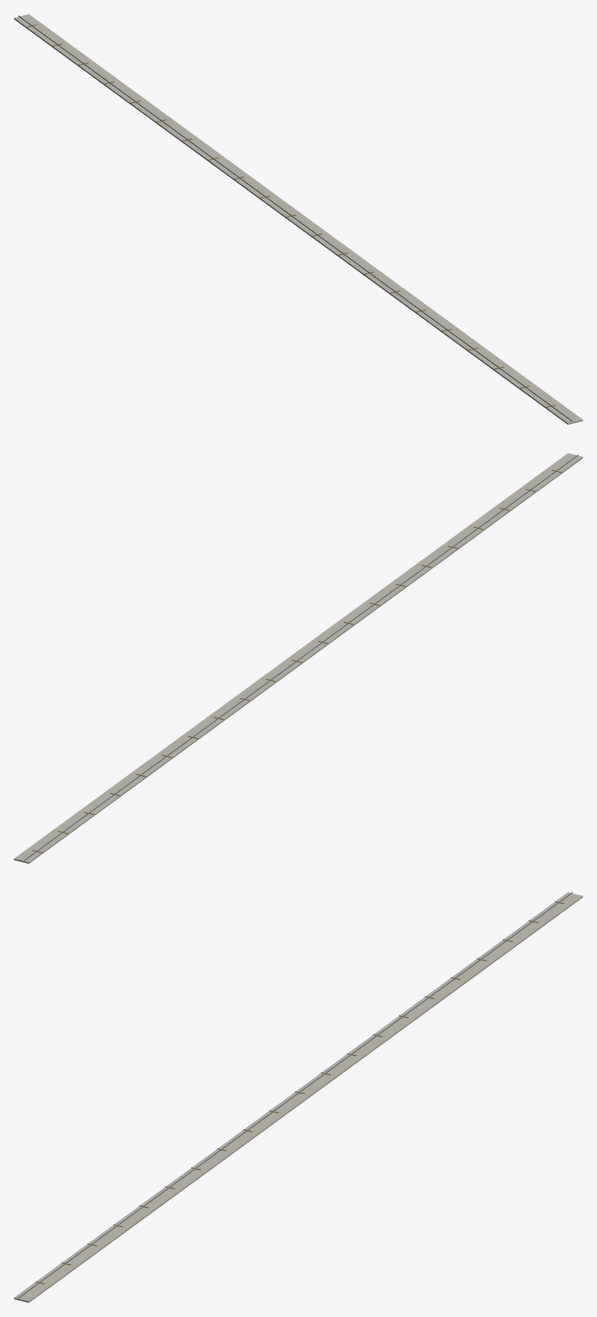
The model's file is valley-8-3.glb.
3 renders of one model, top to bottom at view 1: azimuth 30°, elevation 25°; view 2: azimuth 150°, elevation 25°; view 3: azimuth 330°, elevation 25°, orthographic.
Visible parts, largest first — view 1: valley-8-3; view 2: valley-8-3; view 3: valley-8-3.
Boxes of the visible parts, bbox=[...] form: valley-8-3: bbox=[14, 14, 582, 424]; valley-8-3: bbox=[14, 453, 582, 863]; valley-8-3: bbox=[14, 892, 582, 1302].
Size of the model in its own units: 4 by 0.7 by 256.
